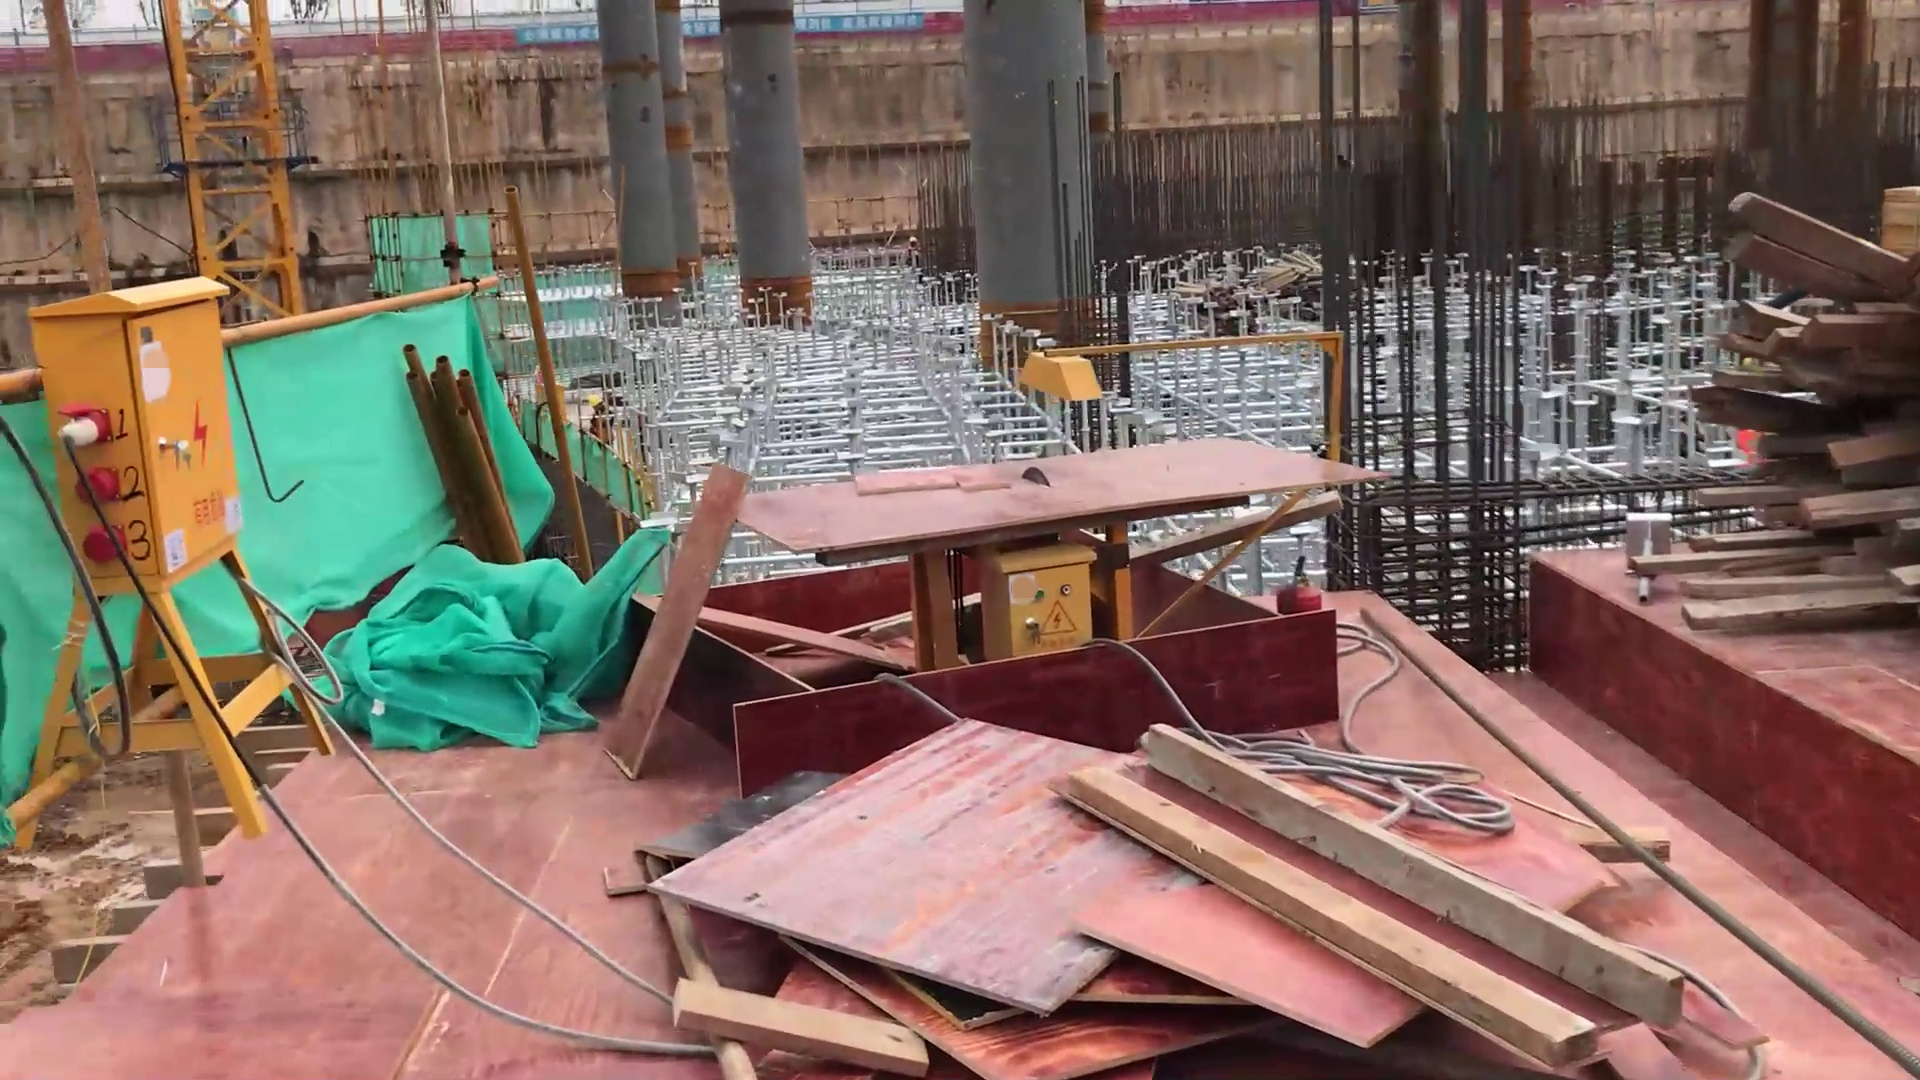cutter: (688, 328, 1403, 603)
ebox: (66, 284, 228, 566), (967, 560, 1062, 661)
wood: (1633, 214, 1920, 659)
